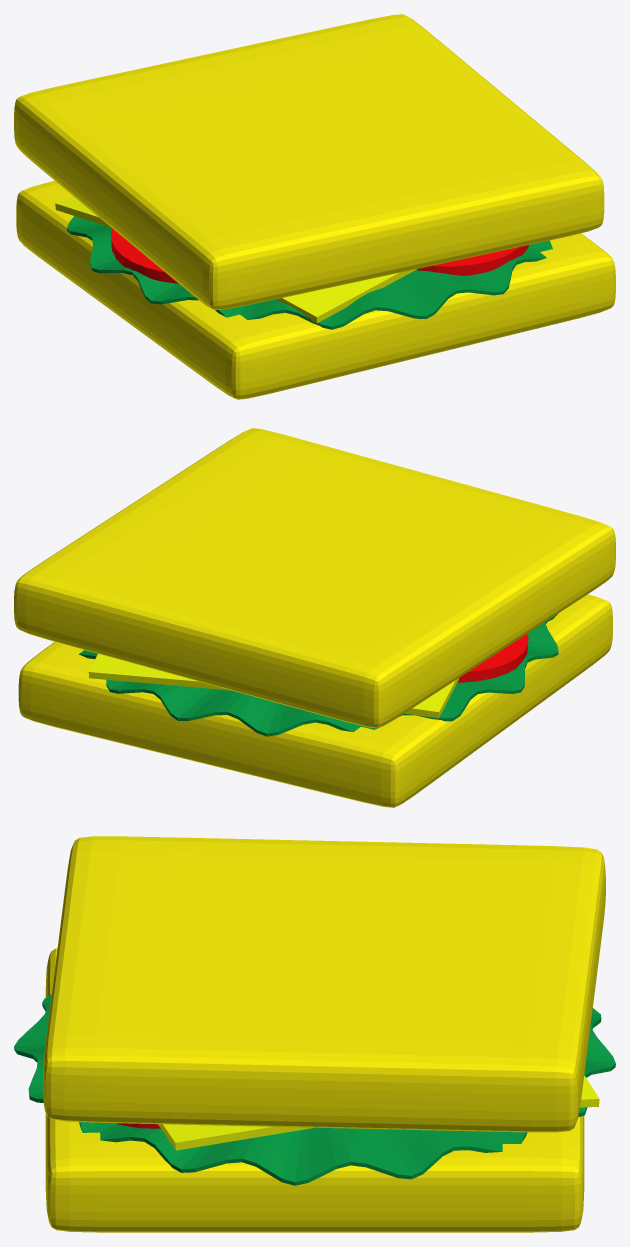
The model's file is SandWich.fbx.
3 views of the same model, one above another, from view 1: azimuth 30°, elevation 25°; view 2: azimuth 150°, elevation 25°; view 3: azimuth 270°, elevation 25° (orthographic). The views are drawn at different scales.
Visible parts, largest first — view 1: Cube.001, Cube, Circle.001, Plane, Circle.002, Circle.003; view 2: Cube.001, Cube, Circle.001, Plane, Circle.003; view 3: Cube.001, Cube, Circle.001, Plane.
Part boxes in pixels (x1,y1,x2,y2): Cube.001: [14, 14, 604, 310]; Cube: [16, 180, 615, 399]; Circle.001: [67, 216, 552, 329]; Plane: [55, 195, 417, 323]; Circle.002: [416, 245, 528, 275]; Circle.003: [111, 228, 178, 283]; Cube.001: [14, 428, 615, 728]; Cube: [18, 594, 612, 807]; Circle.001: [78, 614, 558, 736]; Plane: [88, 654, 458, 718]; Circle.003: [457, 634, 528, 682]; Cube.001: [43, 836, 605, 1132]; Cube: [45, 948, 584, 1232]; Circle.001: [14, 994, 615, 1185]; Plane: [158, 1075, 599, 1150].
Bounding box in the file's own units: 318 × 102 × 318.
